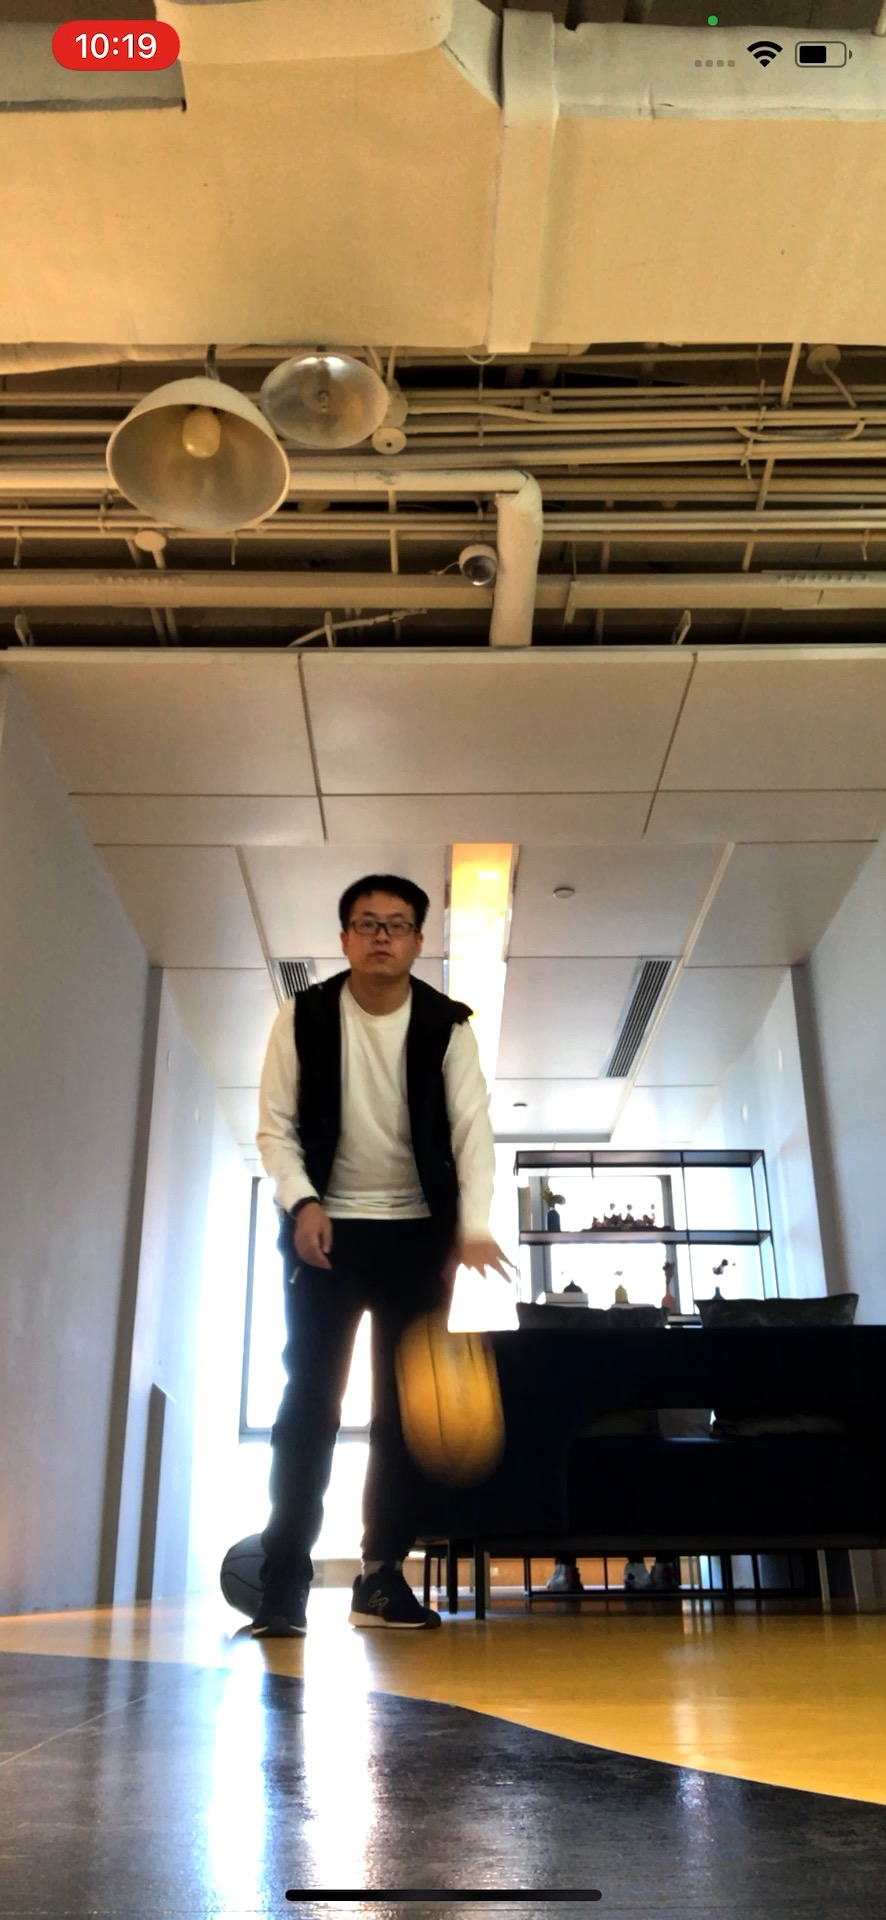ball: (394, 1325, 516, 1469)
